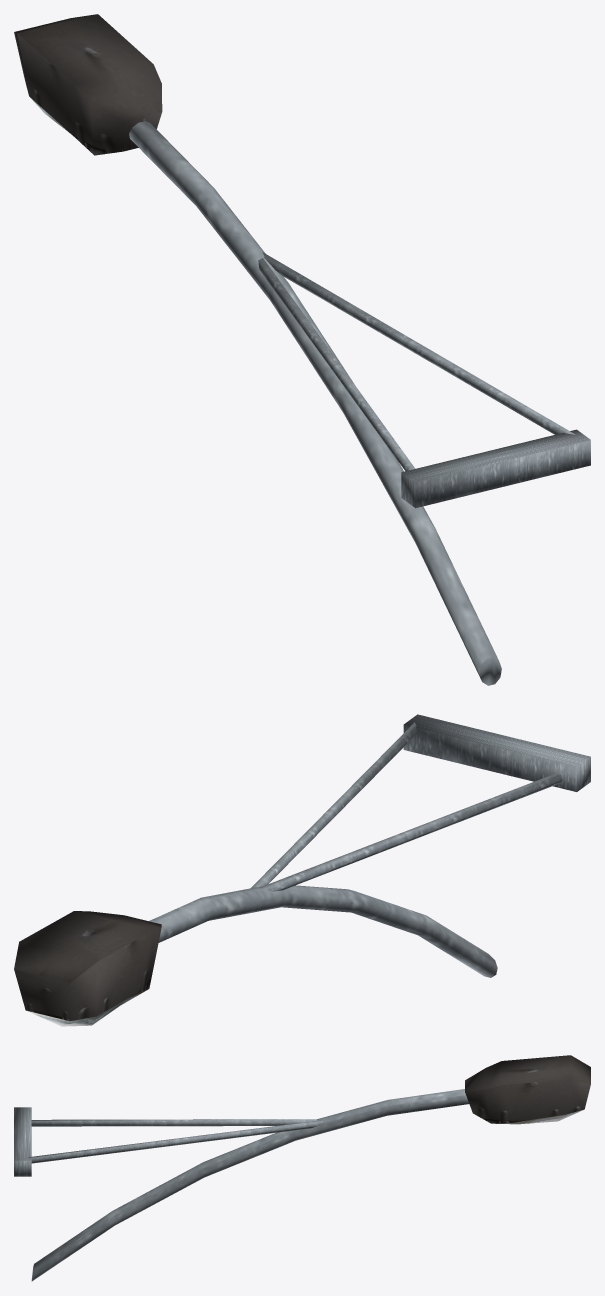
File: streetLightSconce.fbx
The picture shows the model from 3 angles, top to bottom: view 1: azimuth 30°, elevation 25°; view 2: azimuth 150°, elevation 25°; view 3: azimuth 270°, elevation 25°; orthographic projection. The views are drawn at different scales.
Visible parts, largest first — view 1: streetlightA0; view 2: streetlightA0, lens0; view 3: streetlightA0.
Boxes of the visible parts, x1,y1,x2,y2 form: streetlightA0: (14, 14, 590, 685); streetlightA0: (14, 714, 590, 1021); lens0: (26, 989, 148, 1026); streetlightA0: (14, 1055, 590, 1281).
Bounding box in the file's own units: 0.759 × 1.42 × 3.48.
